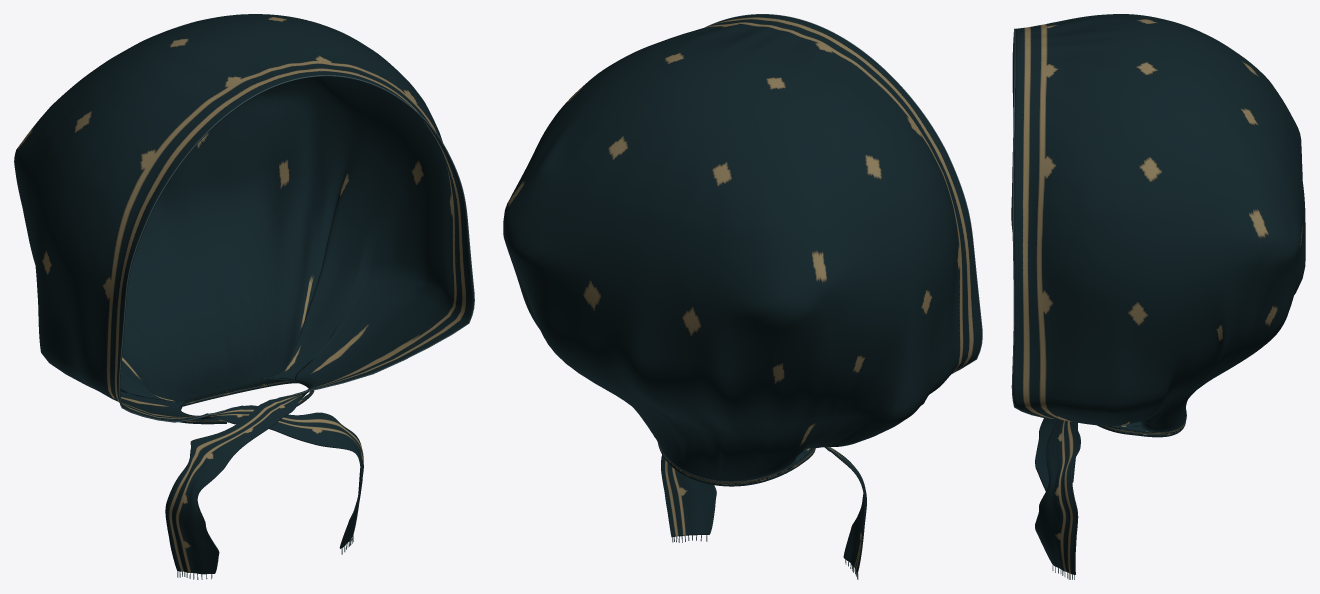
File: Feminine-space-buns-bandeau-pashmina249-headgear.glb
3 views of the same model, side by side, from view 1: azimuth 30°, elevation 25°; view 2: azimuth 150°, elevation 25°; view 3: azimuth 270°, elevation 25° (orthographic). The views are drawn at different scales.
Visible parts, largest first — view 1: 226 headgear / Headwear / continuous woven pashmina239, 226 headgear / Headwear / face edge239; view 2: 226 headgear / Headwear / continuous woven pashmina239, 226 headgear / Headwear / face edge239; view 3: 226 headgear / Headwear / continuous woven pashmina239, 226 headgear / Headwear / face edge239.
Part boxes in pixels (x1,y1,x2,y2): 226 headgear / Headwear / continuous woven pashmina239: [14, 14, 473, 574]; 226 headgear / Headwear / face edge239: [118, 75, 474, 422]; 226 headgear / Headwear / continuous woven pashmina239: [503, 14, 981, 573]; 226 headgear / Headwear / face edge239: [705, 14, 982, 373]; 226 headgear / Headwear / continuous woven pashmina239: [1011, 14, 1305, 574]; 226 headgear / Headwear / face edge239: [1011, 28, 1049, 418].
Bounding box in the file's own units: 1.05 × 1.36 × 0.7241.
Materials: 3 (1 with a texture image).
